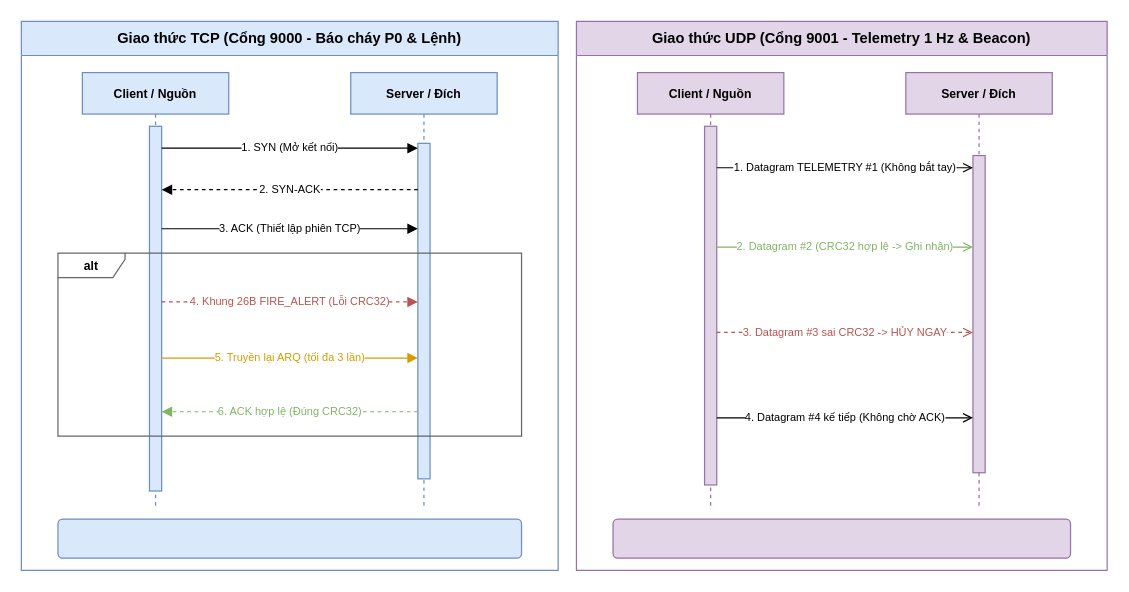
The diagram is 1129 pixels wide and 592 high, and some of its shapes have lost their labels. The centre of each missing label's shape, as x and y in pixels:
Đảm bảo gói khẩn cấp P0 tới đích (PDR cao): the point at 289,538
Độ trễ thấp, nhẹ băng thông; gói lỗi tự bỏ: the point at 841,538
